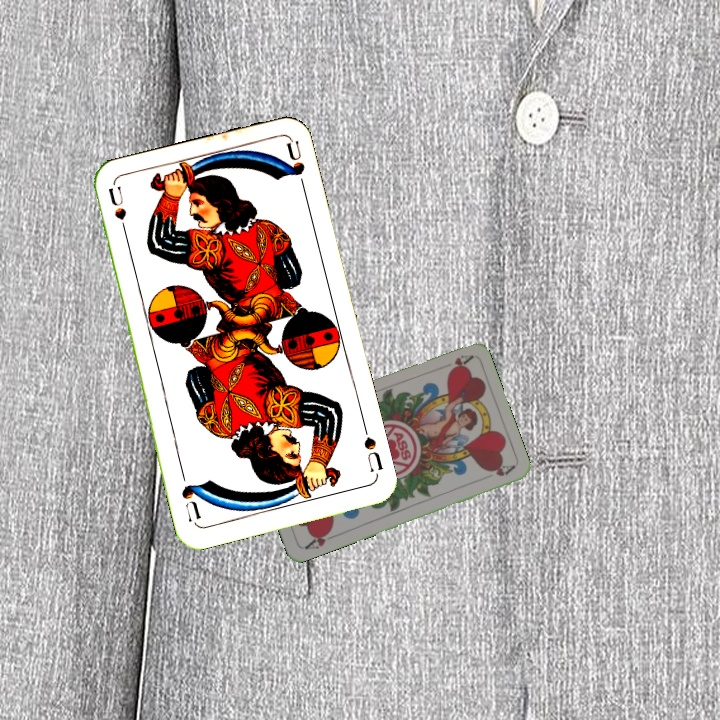HA: (300, 526, 339, 552), (444, 351, 475, 375)
SU: (104, 183, 131, 242), (360, 432, 386, 475)
